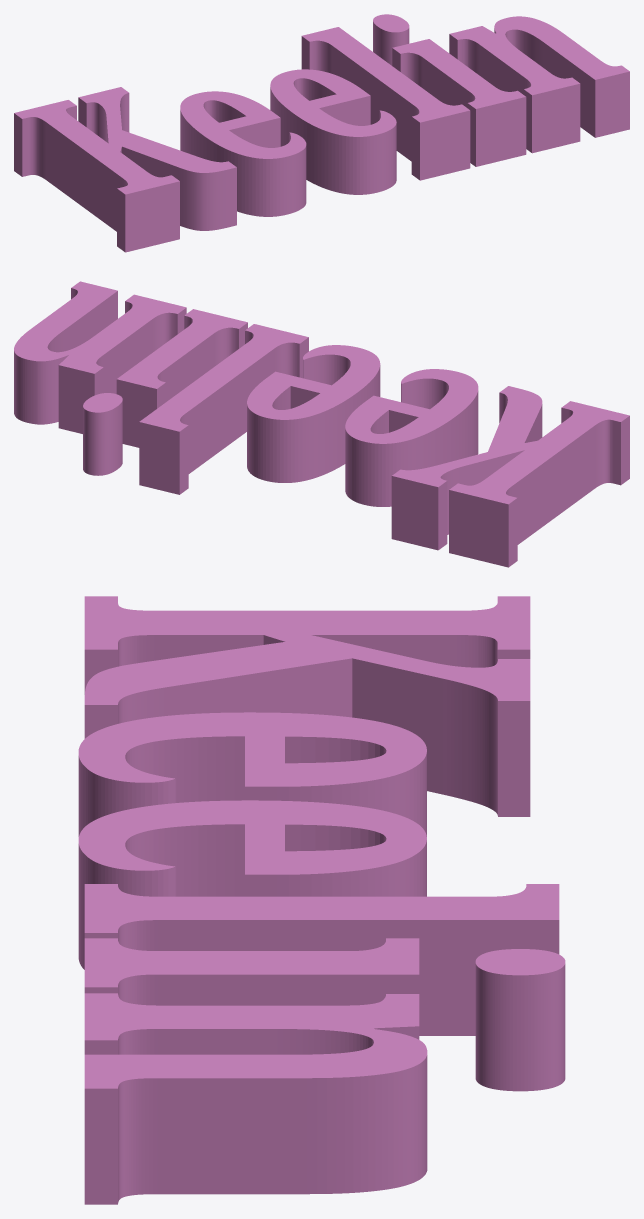
File: MyName.glb
3 renders of one model, top to bottom at view 1: azimuth 30°, elevation 25°; view 2: azimuth 150°, elevation 25°; view 3: azimuth 270°, elevation 25°, orthographic. The views are drawn at different scales.
Visible parts, largest first — view 1: Mesh_Mesh_head_geo.001_lambert2SG.001; view 2: Mesh_Mesh_head_geo.001_lambert2SG.001; view 3: Mesh_Mesh_head_geo.001_lambert2SG.001.
Boxes of the visible parts, x1,y1,x2,y2 form: Mesh_Mesh_head_geo.001_lambert2SG.001: [14, 14, 629, 252]; Mesh_Mesh_head_geo.001_lambert2SG.001: [14, 281, 629, 567]; Mesh_Mesh_head_geo.001_lambert2SG.001: [78, 596, 565, 1204].
Size of the model in its own units: 0.0911 by 0.01 by 0.0381.
